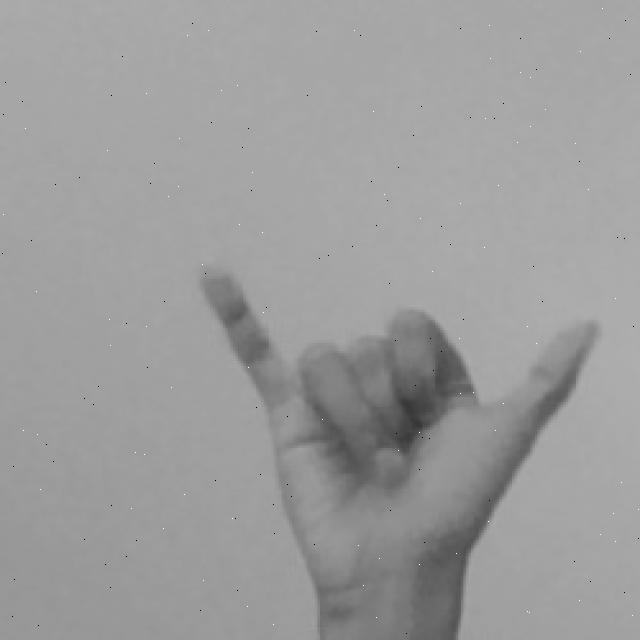Y: (189, 253, 607, 640)
